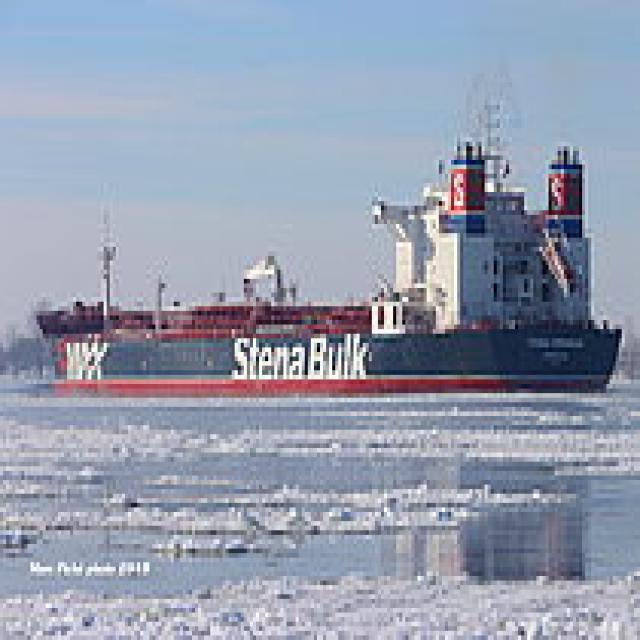Tanker: (31, 96, 622, 393)
